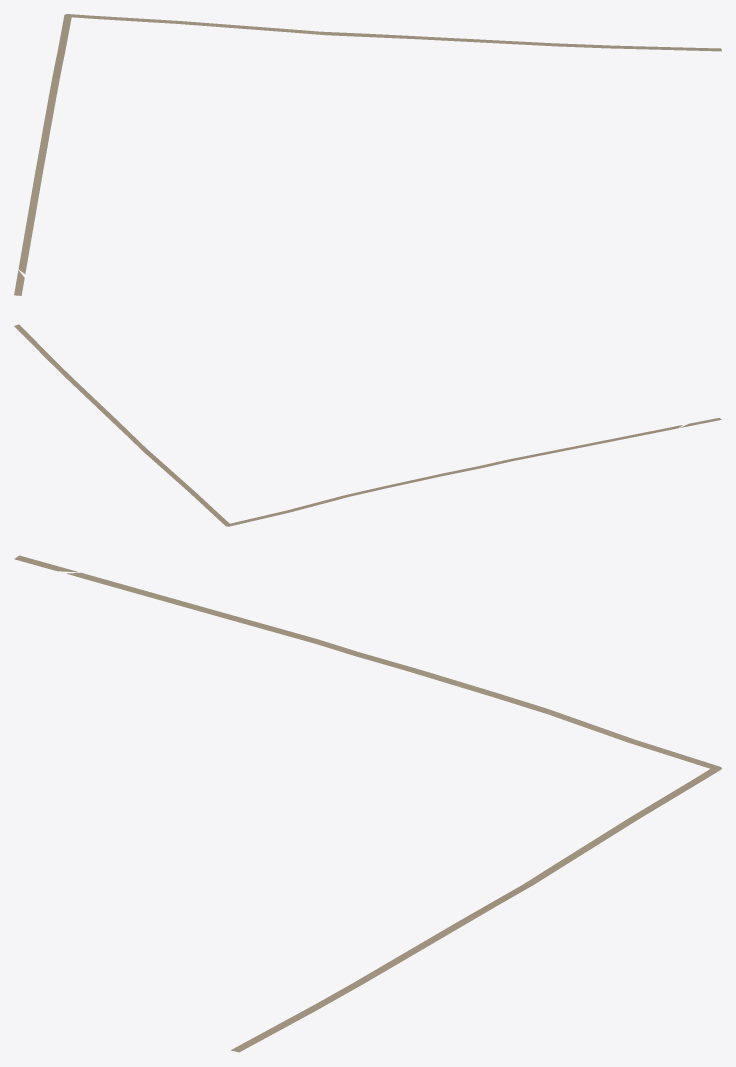
The model's file is farm_22_16_track.glb.
The picture shows the model from 3 angles, top to bottom: view 1: azimuth 30°, elevation 25°; view 2: azimuth 150°, elevation 25°; view 3: azimuth 270°, elevation 25°; orthographic projection. The views are drawn at different scales.
Visible parts, largest first — view 1: geometry_0; view 2: geometry_0; view 3: geometry_0.
Boxes of the visible parts, x1=… form: geometry_0: x1=14, y1=14, x2=721, y2=295; geometry_0: x1=14, y1=324, x2=721, y2=526; geometry_0: x1=14, y1=555, x2=721, y2=1052.
Size of the model in its own units: 394 by 7.77 by 244.
